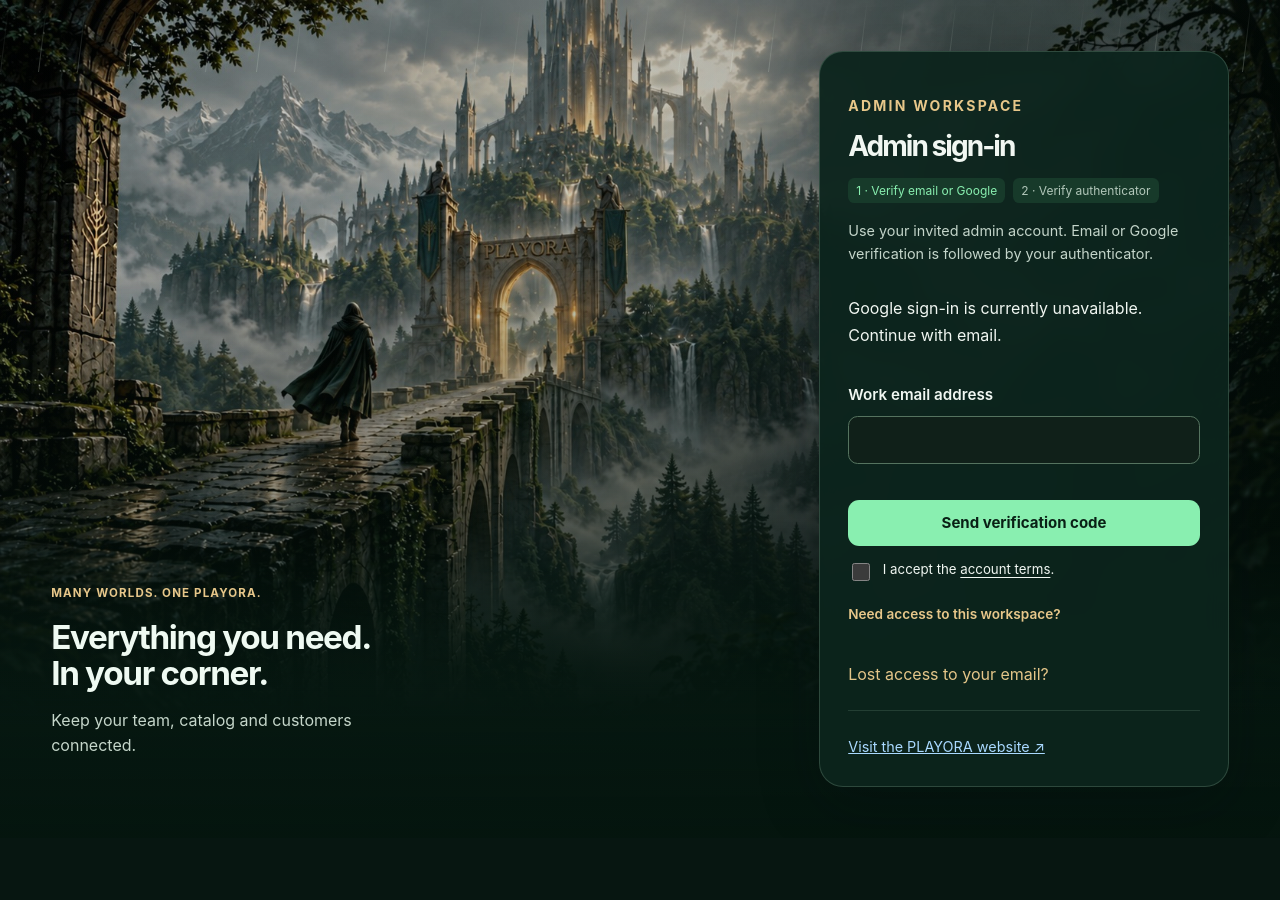
returns admin to its retained email entry when staff access is removed before resend
The image size is (1280, 900).
Type "same@example.test" into the field labelled "Work email address" at (1024, 440), box [848,416,1200,464]
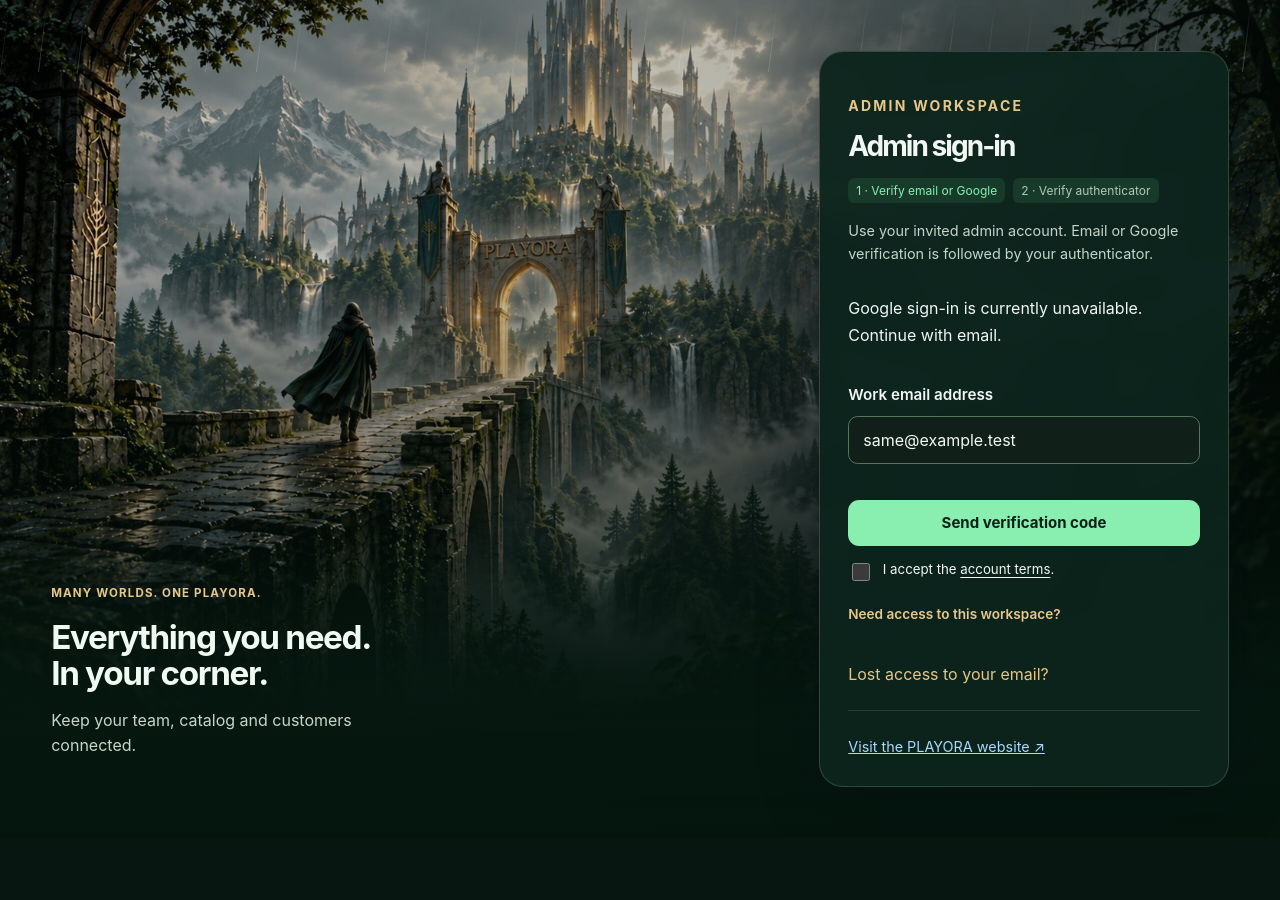
Click the checkbox at (861, 572), box [852,563,870,581]
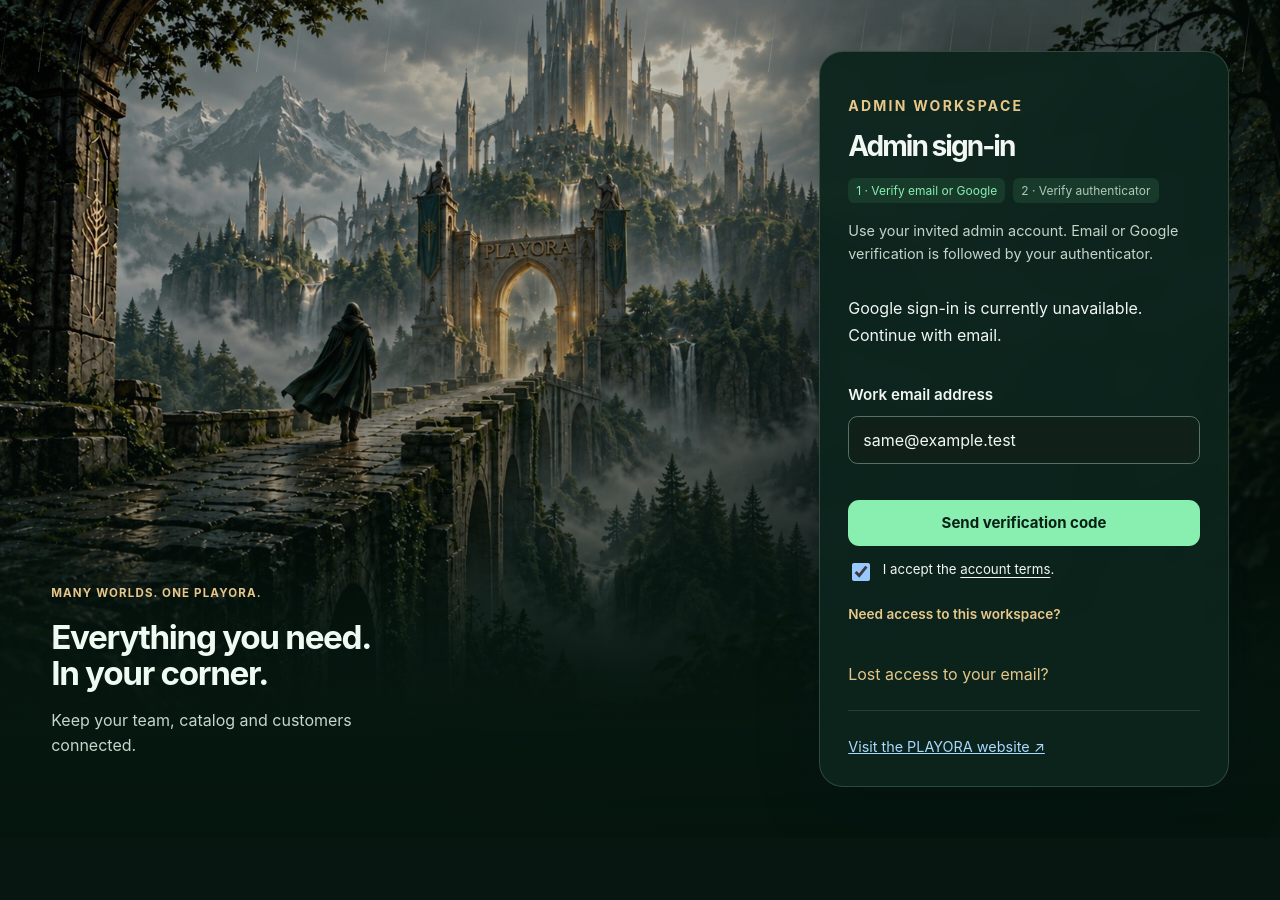
Submit the form "Send verification code", box [848,384,1200,546]
Wait 120000 ms
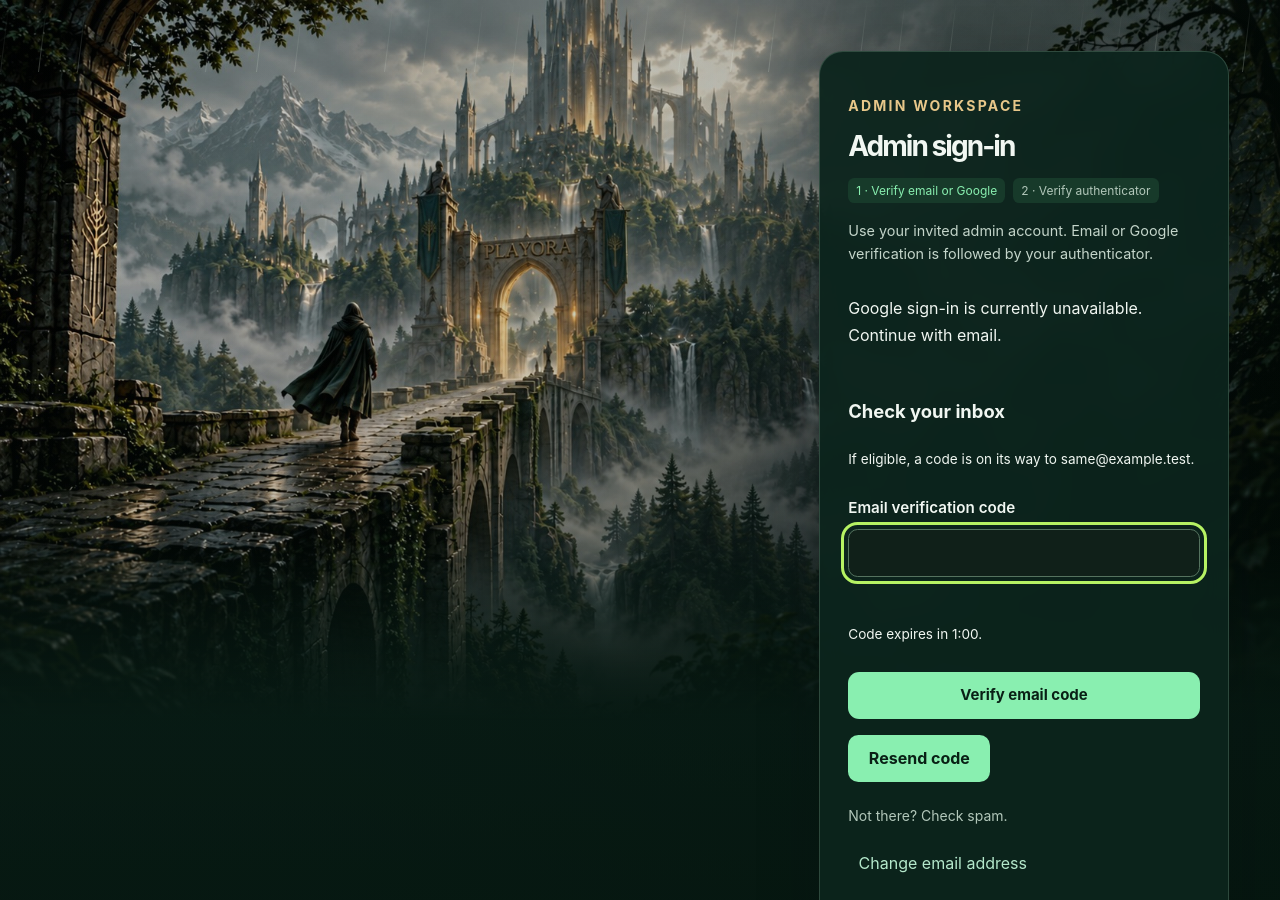
Click the button "Resend code" at (919, 758), box [848,735,990,782]
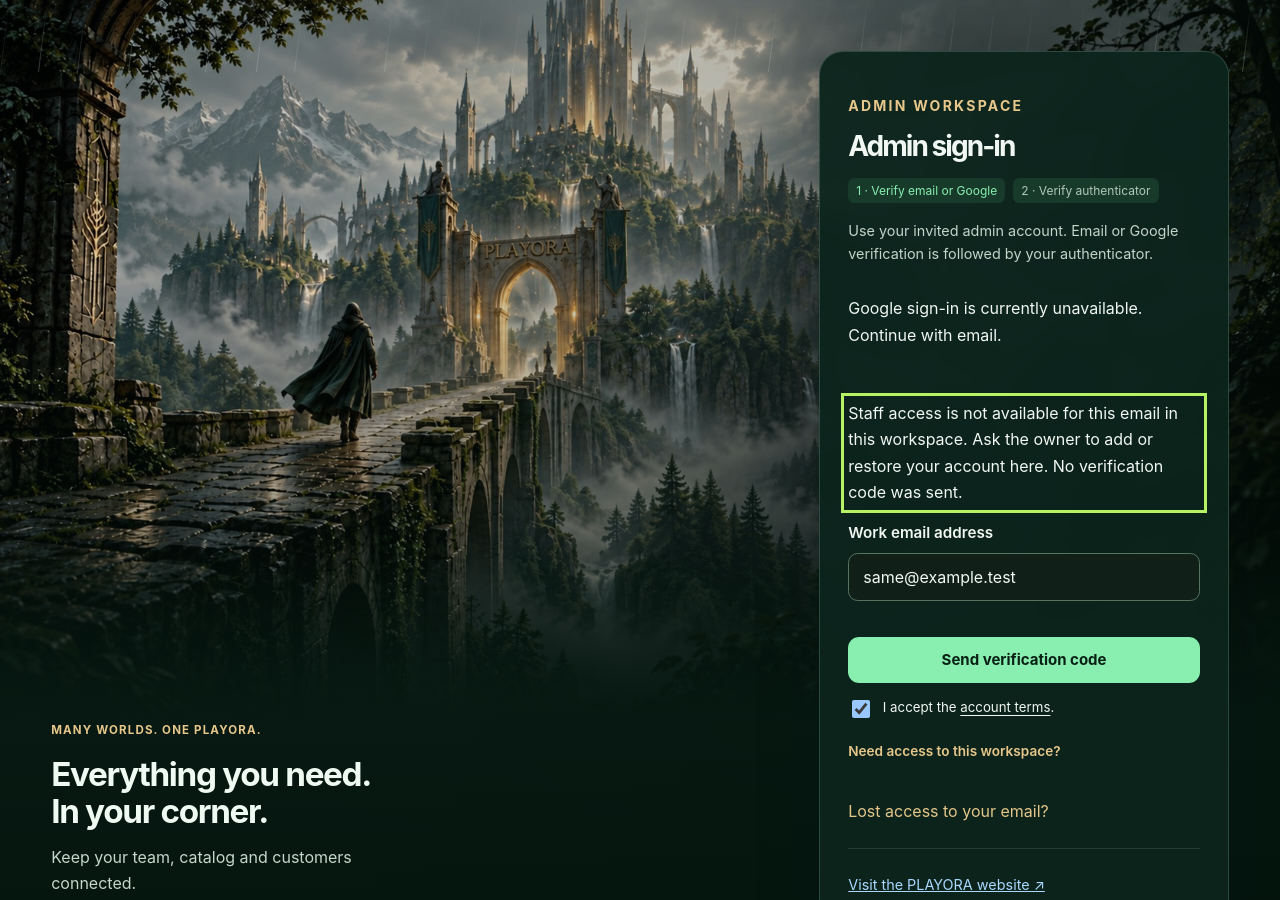
Result: the field labelled "Work email address" holds "same@example.test" at [848,553,1200,601]
Result: the message shows "No verification code was sent" at [848,403,1178,502]
Result: the label labelled "Email verification code" is gone
